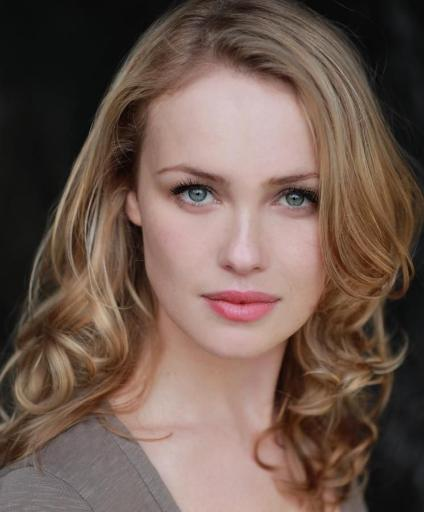left_eye: (270, 187, 319, 213)
left_lip_corner: (274, 295, 286, 309)
right_eye: (171, 183, 221, 210)
right_lip_corner: (197, 290, 213, 307)
